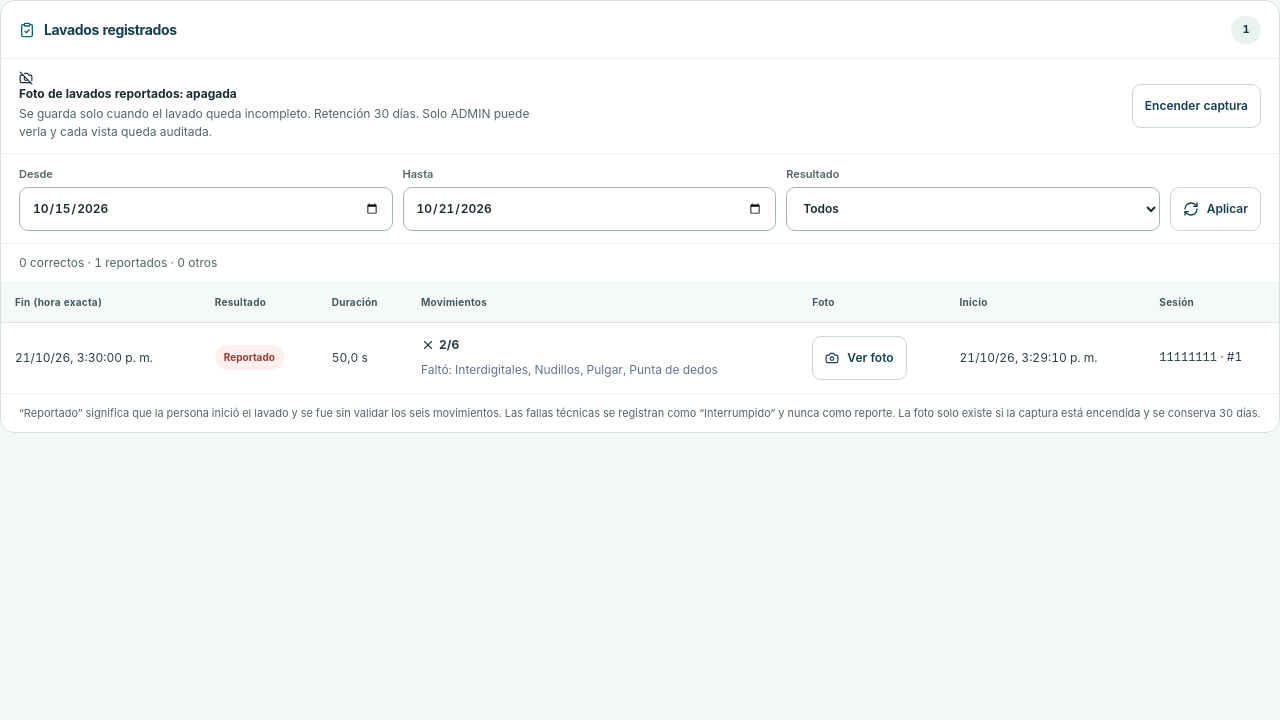
AdminWashReports › opens a captured photo through the audited endpoint and revokes the object URL on close
The image size is (1280, 720).
Click the button "Ver foto" at (859,358), box top-left (812, 336), bottom-right (906, 380)
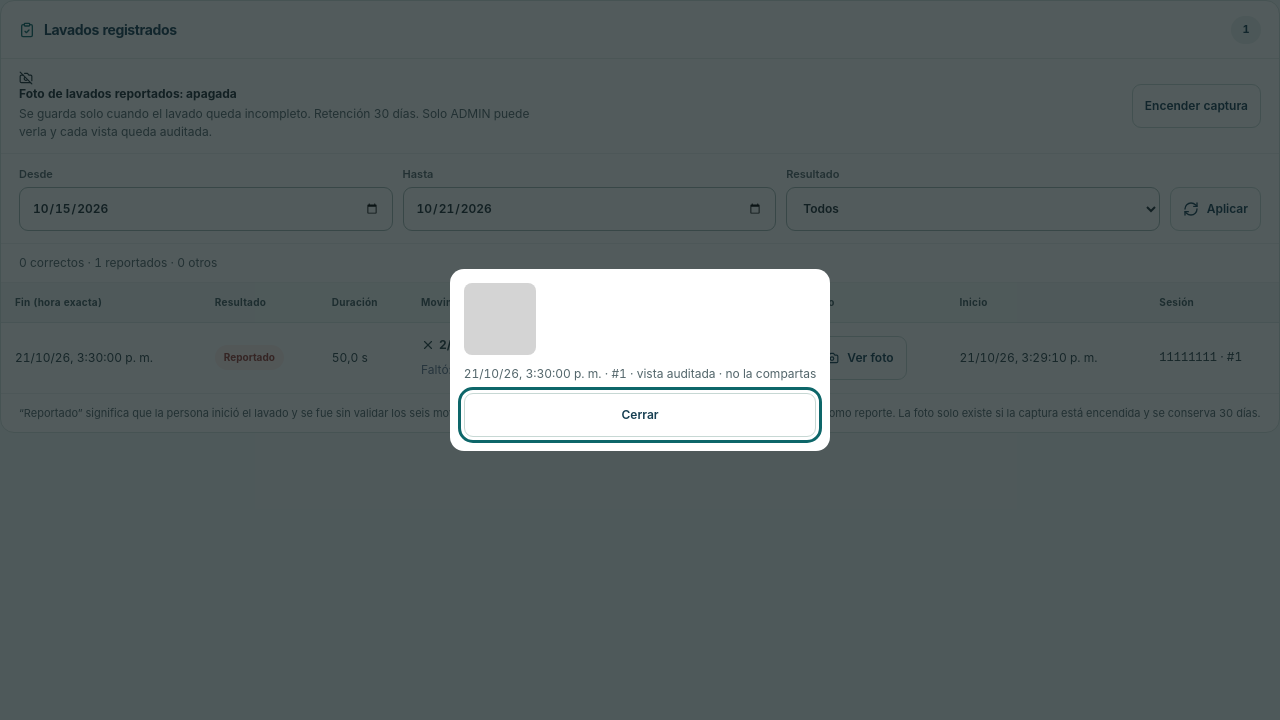
Check: the dialog is shown
Click the button "Cerrar" at (640,415), box top-left (464, 393), bottom-right (816, 437)
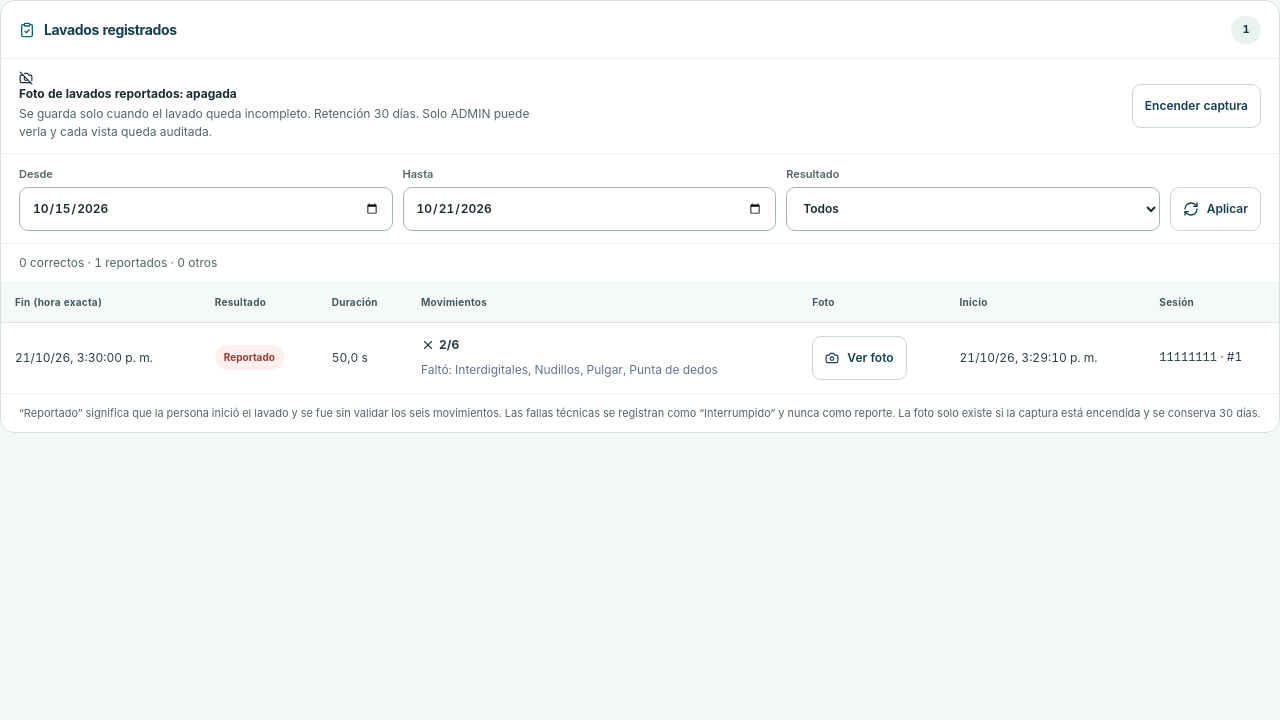
Check: the dialog is gone
